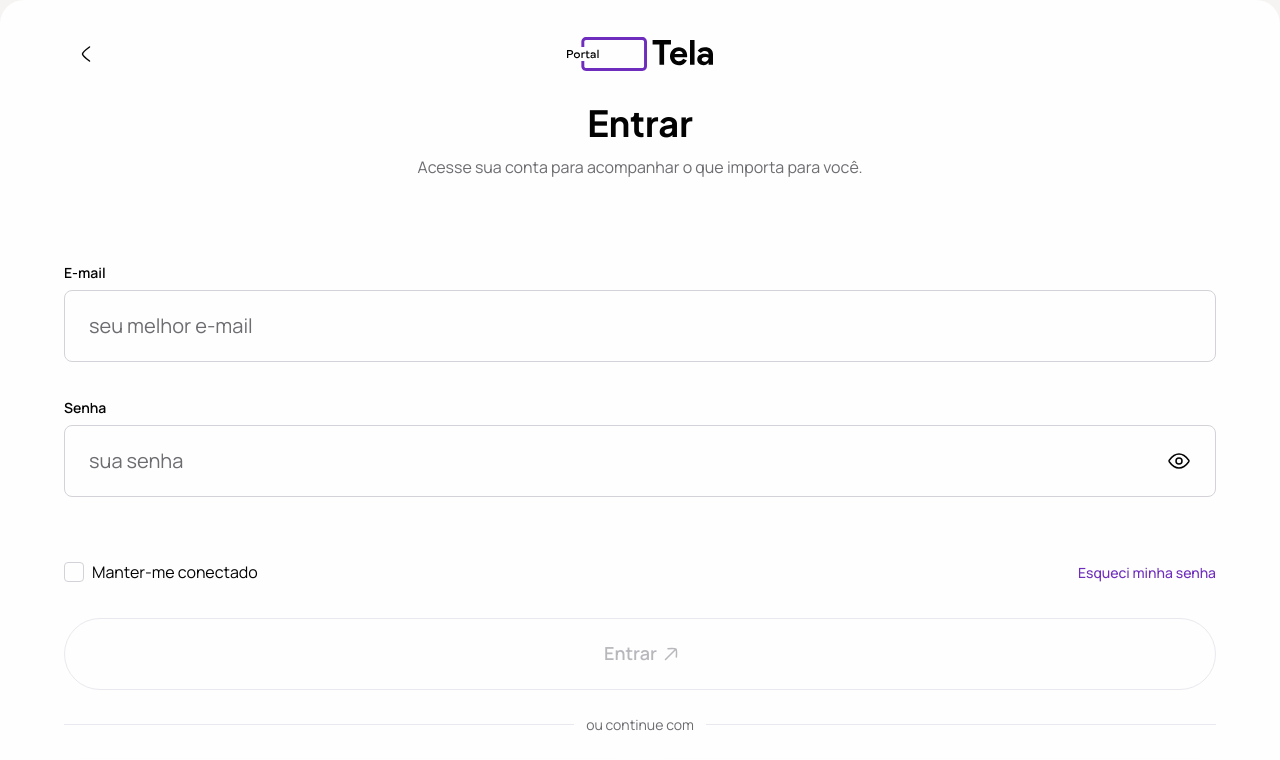
Test: LoginPage › clicar em Entrar com o formulário vazio mostra o que falta e foca o primeiro campo
Click the button "Entrar". click: [640, 654]
box: [64,618,1216,690]
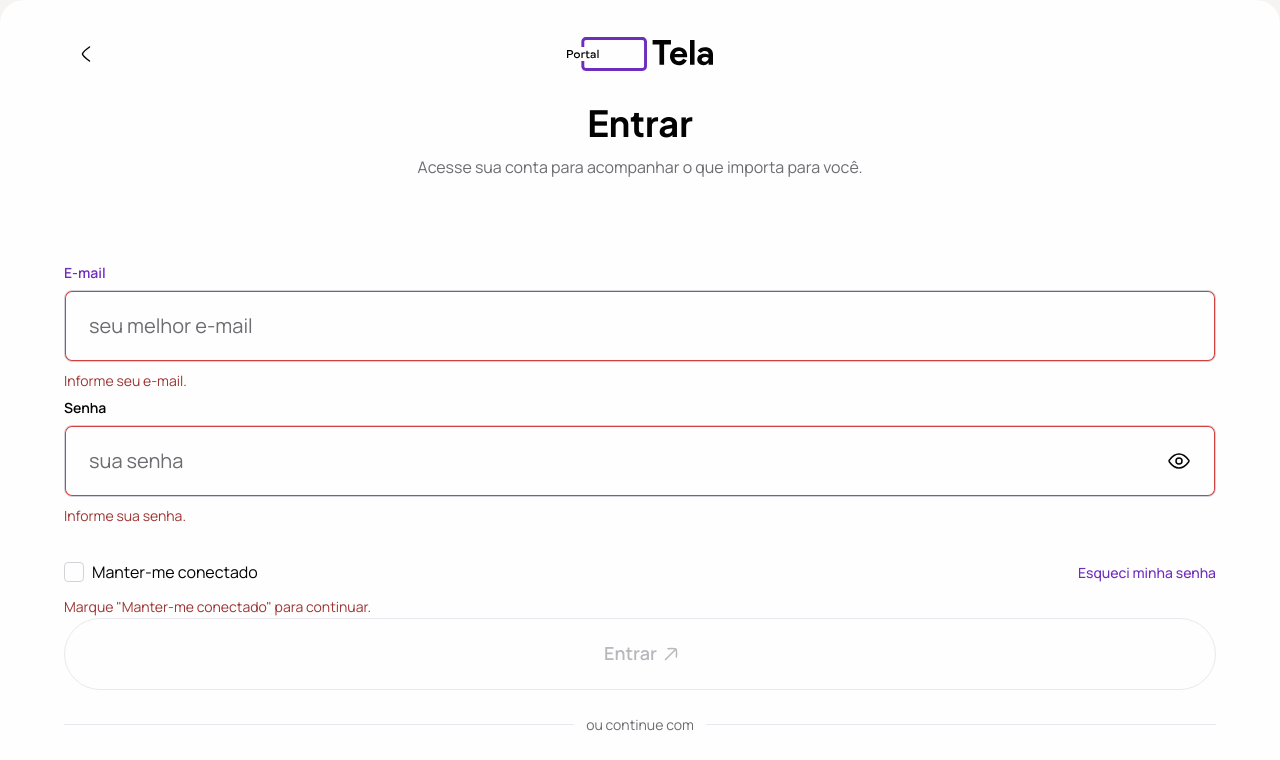
Now the text "Informe seu e-mail." is shown, box [64,371,187,390]
Now the text "Informe sua senha." is shown, box [64,506,186,525]
Now the text "Marque \"Manter-me conectado\" para continuar." is shown, box [64,596,371,617]
